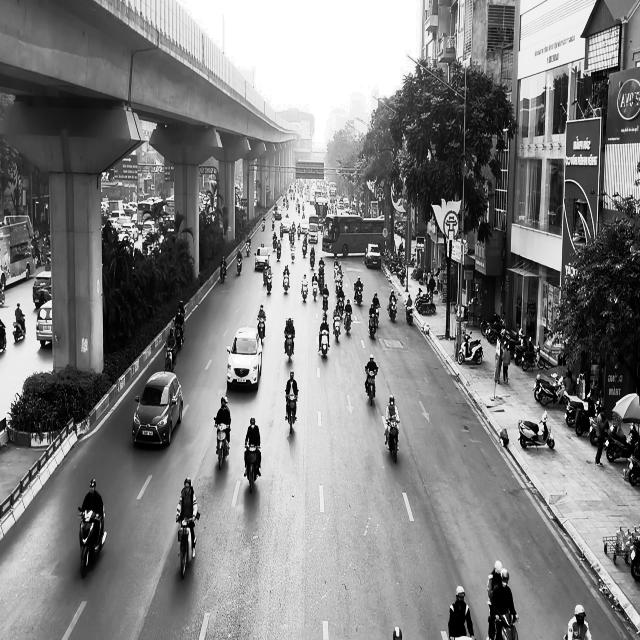bus: (322, 214, 388, 257)
car: (132, 370, 184, 448), (226, 326, 263, 389), (36, 300, 53, 348), (364, 242, 382, 268)
motorbike: (78, 505, 107, 578), (177, 512, 200, 578), (518, 411, 555, 449), (488, 603, 520, 639), (457, 329, 483, 364), (244, 444, 262, 493), (214, 419, 231, 469), (384, 415, 400, 463), (285, 390, 299, 434), (365, 367, 378, 405), (165, 338, 177, 372), (317, 328, 330, 358), (13, 314, 26, 342), (284, 333, 295, 362), (368, 312, 378, 339), (0, 318, 7, 352), (405, 300, 414, 325), (388, 298, 397, 322), (334, 314, 342, 341), (258, 316, 266, 342), (354, 284, 363, 306), (266, 270, 274, 294), (344, 311, 352, 334), (301, 280, 309, 302), (283, 270, 290, 294), (220, 264, 227, 283), (323, 292, 329, 312), (237, 256, 242, 275)
